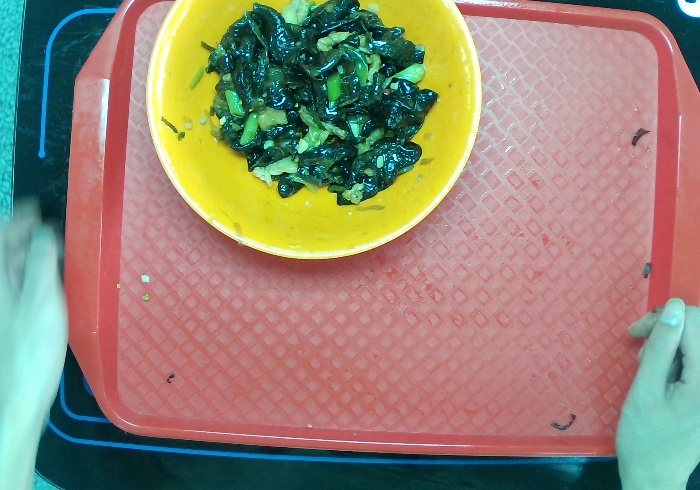YKMZ-Ju_Se_Tang_Wan: (141, 1, 486, 262)
